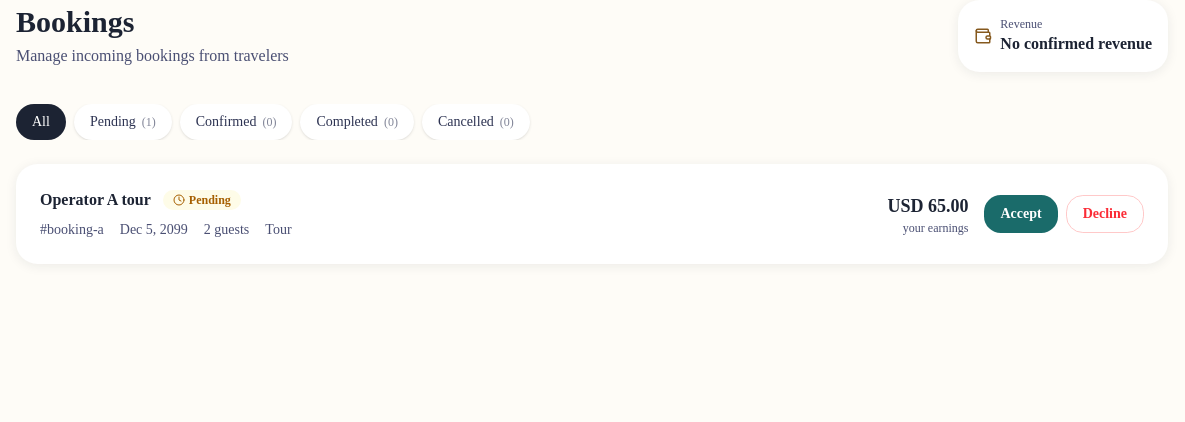
Test case: does not accept a non-JSON successful response as a confirmed change
Click the button "Accept" at (1021, 214), box x1=984 y1=195 x2=1058 y2=233
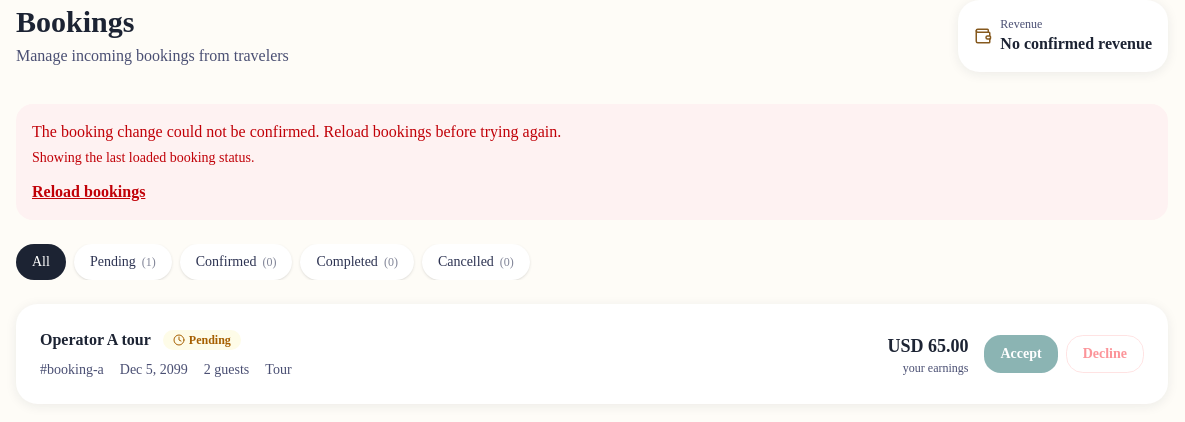
Expected: the message is shown, x1=16 y1=104 x2=1168 y2=220
